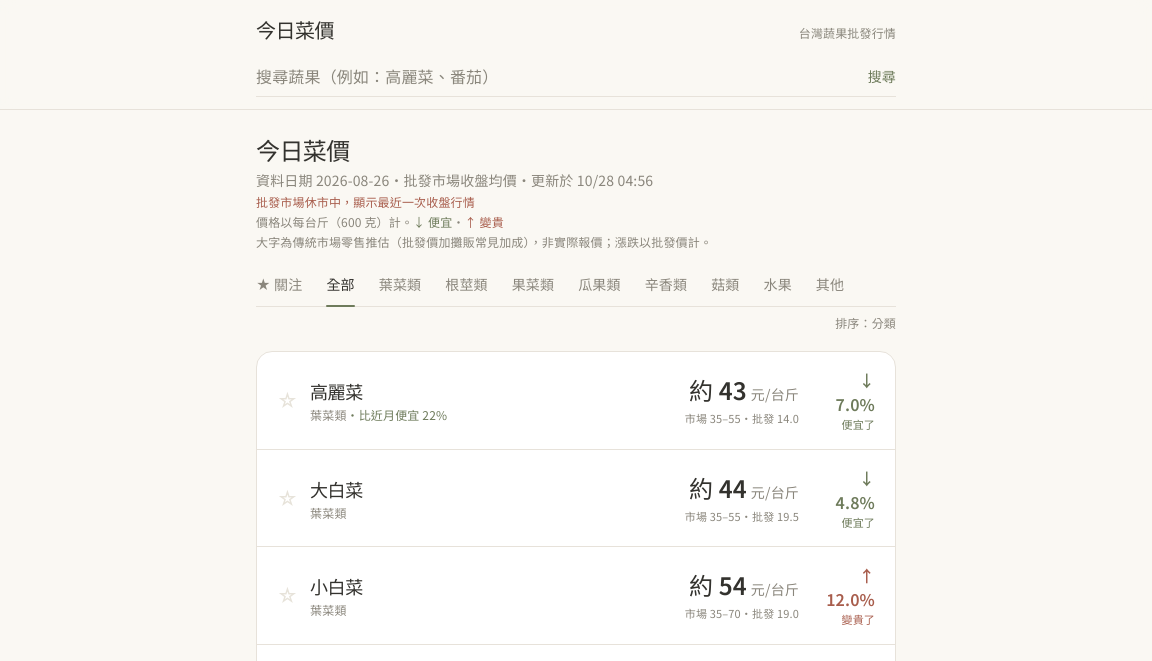
Test case: App — deep links › widens the ★ tab when typing, instead of hiding a crop that is on the board
expect the heading "高麗菜" is shown: met, box left=310, top=378, right=363, bottom=404
Click the button named "關注 高麗菜" at (288, 400), box left=269, top=382, right=306, bottom=418
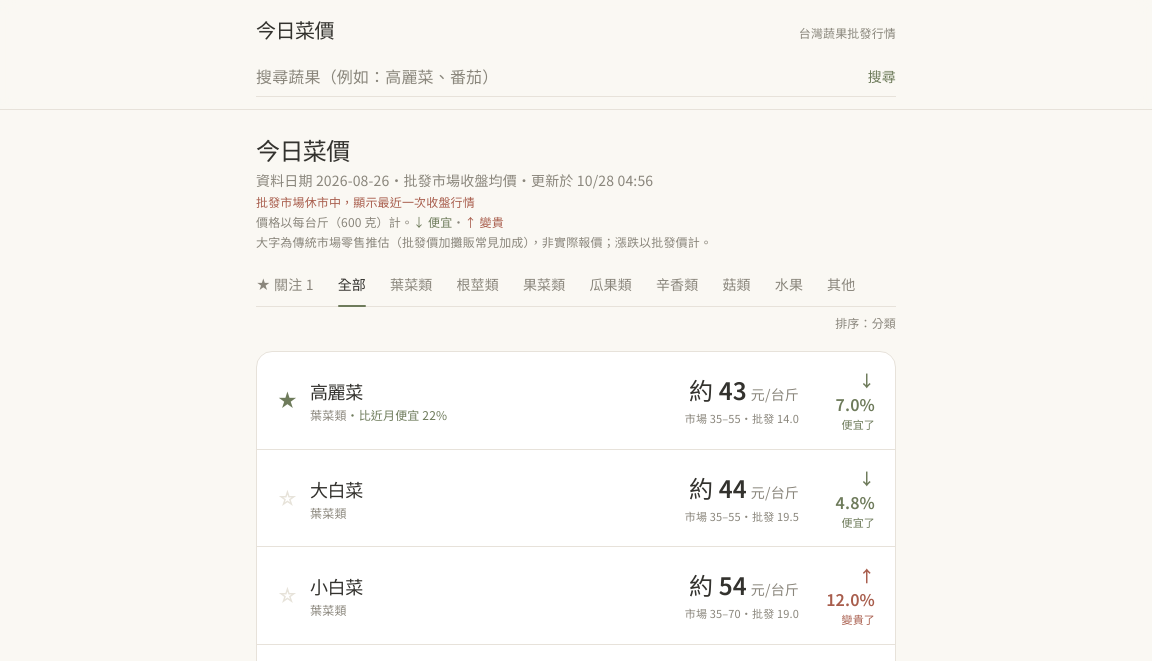
Click the button "★ 關注 1" at (285, 288), box left=256, top=270, right=314, bottom=306
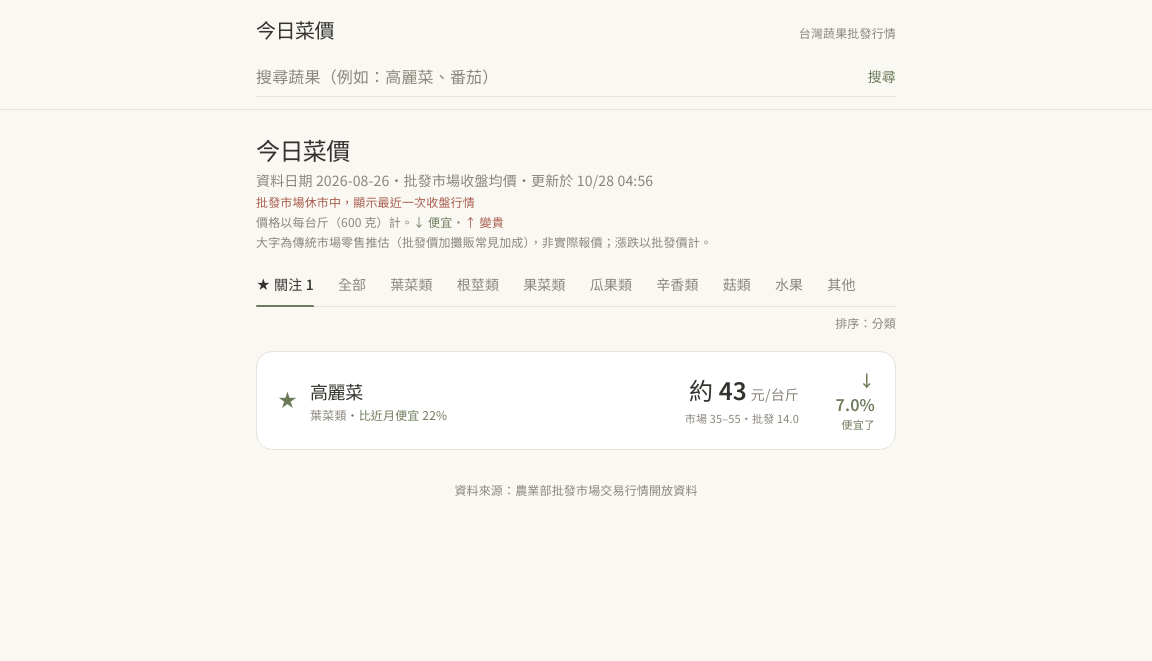
Type "番茄" into the search field with placeholder "搜尋蔬果（例如：高麗菜、番茄）" at (556, 76), box left=256, top=56, right=856, bottom=96
Wait 400 ms
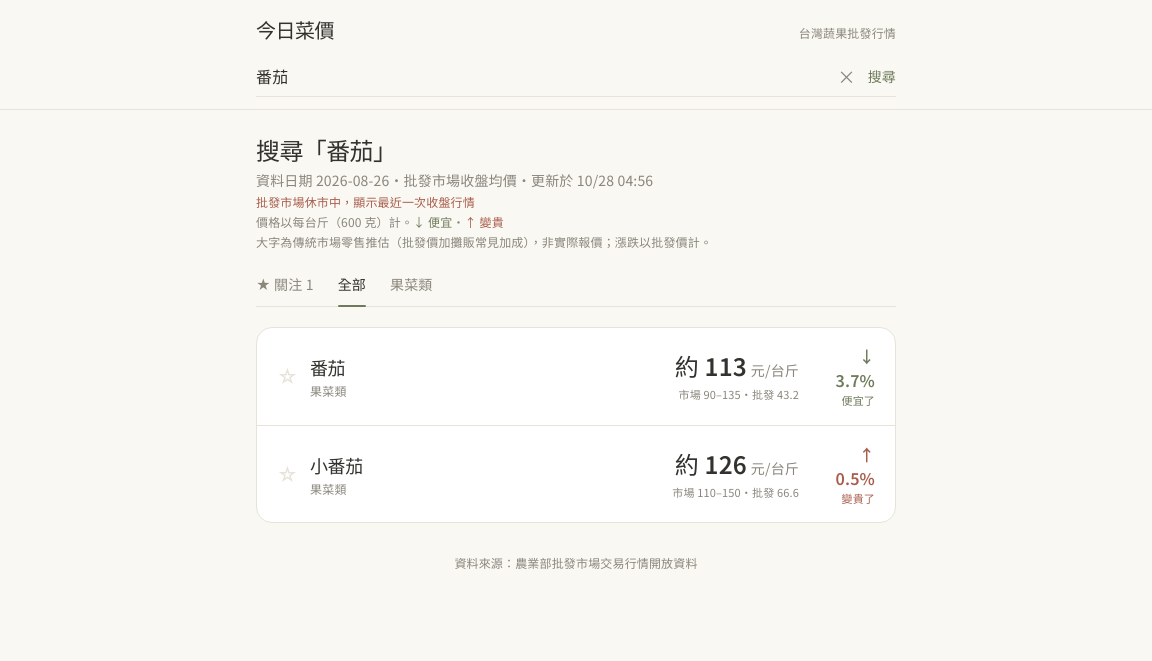
expect the heading "番茄" is shown: met, box left=310, top=353, right=347, bottom=381
